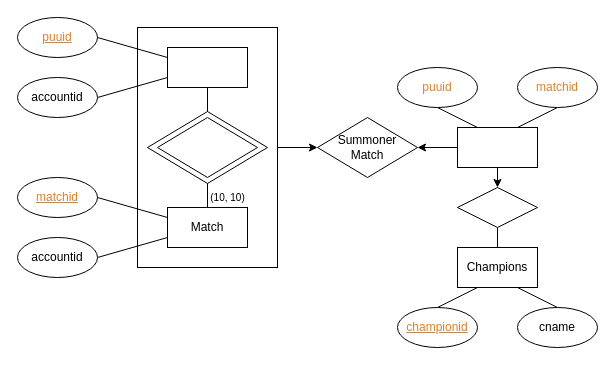
Some shapes in this 615 by 365 pixel diagram are drawn without their labels. Here are the shapes that lost their labels. From the top down, the centre of each, then its label:
At point 207,67: "Summoner".
At point 207,147: "ParticipatedIn".
At point 497,147: "Player Match Summary".
At point 497,207: "Contains".
